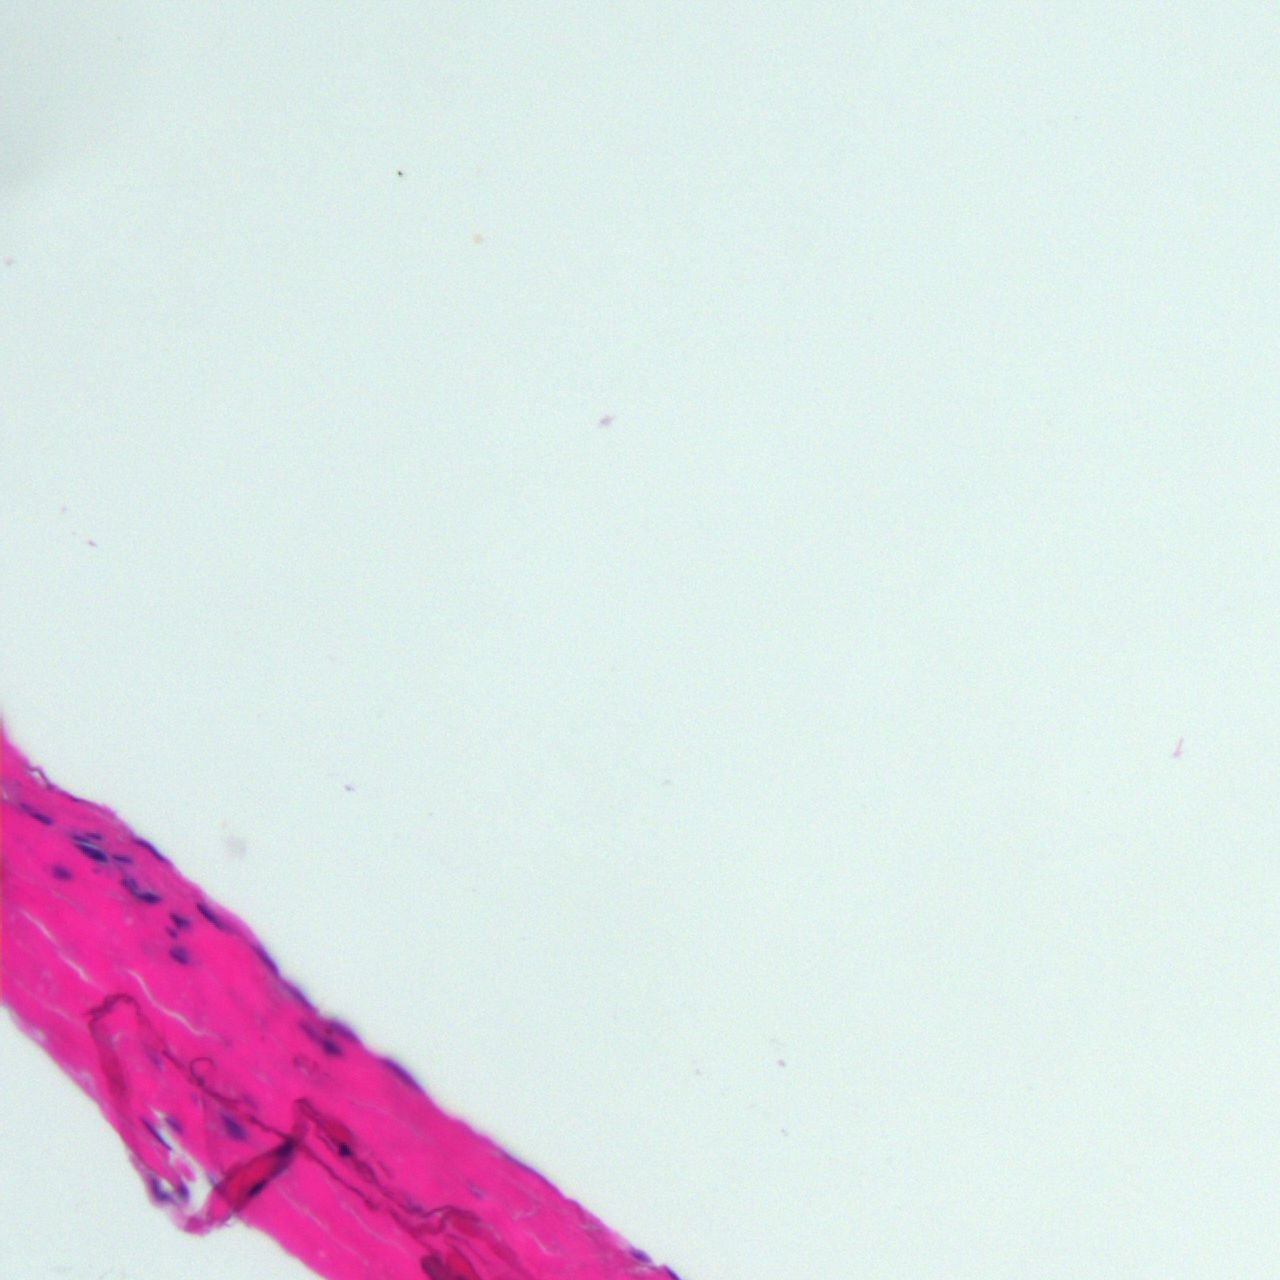nucleus-HE: (295, 1019, 342, 1059), (382, 1056, 422, 1096), (71, 834, 109, 867), (194, 898, 228, 934), (18, 798, 55, 829), (219, 1113, 252, 1144), (253, 944, 282, 977), (328, 1015, 361, 1044), (121, 876, 159, 901), (143, 1121, 173, 1151), (285, 982, 313, 1011), (244, 1175, 269, 1198), (152, 1175, 170, 1202), (168, 909, 189, 929), (50, 862, 73, 879), (169, 945, 187, 963), (629, 1248, 651, 1262), (177, 1181, 189, 1201), (336, 1141, 351, 1156), (113, 855, 133, 863), (165, 926, 177, 936)
